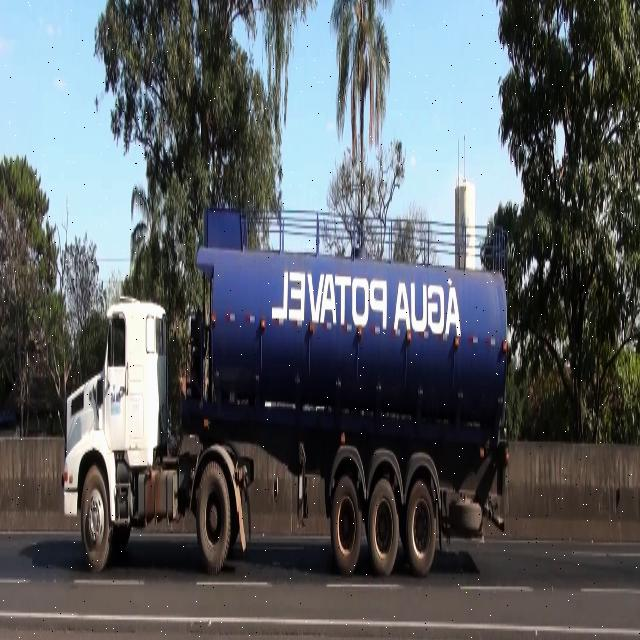-axle: (196, 460, 232, 575), (80, 467, 112, 575), (369, 479, 399, 578), (331, 476, 361, 575), (407, 479, 437, 574)
